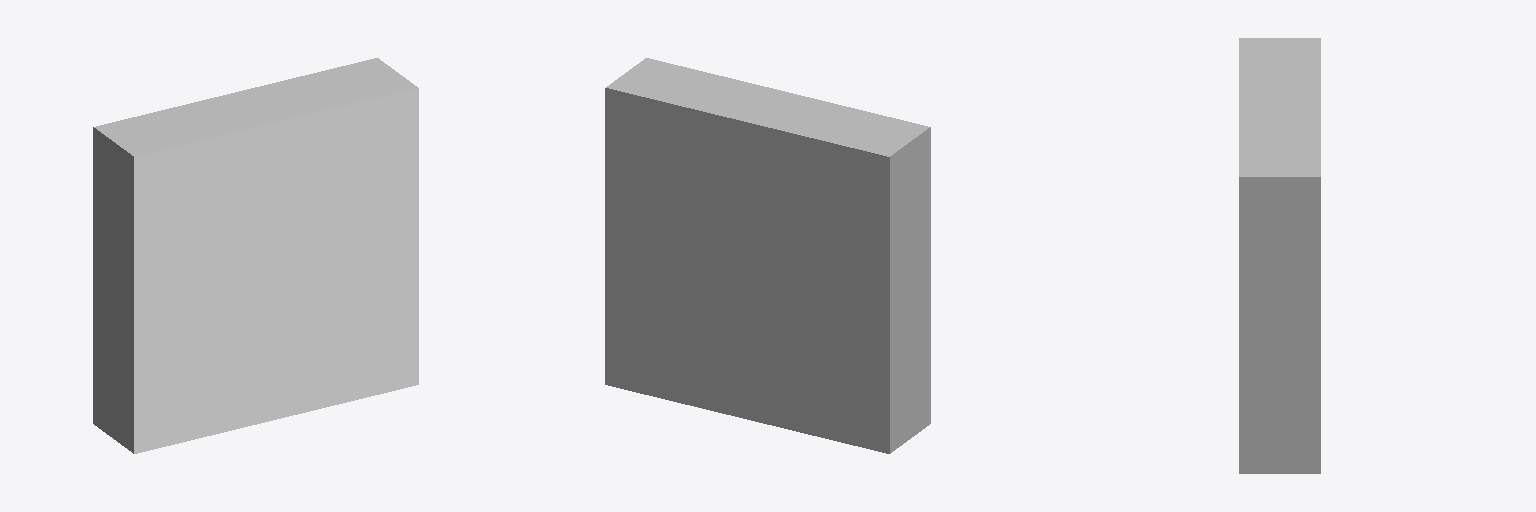
File: lv03-floor-jumping-tile.obj
The picture shows the model from 3 angles: view 1: azimuth 30°, elevation 25°; view 2: azimuth 150°, elevation 25°; view 3: azimuth 270°, elevation 25°; orthographic projection.
Parts seen in each view (by area): view 1: Object.1; view 2: Object.1; view 3: Object.1.
Boxes of the visible parts, <box> form: Object.1: <box>93,58,418,453</box>; Object.1: <box>605,58,930,453</box>; Object.1: <box>1239,38,1320,473</box>.
Bounding box in the file's own units: 81.25 × 81.25 × 20.32.